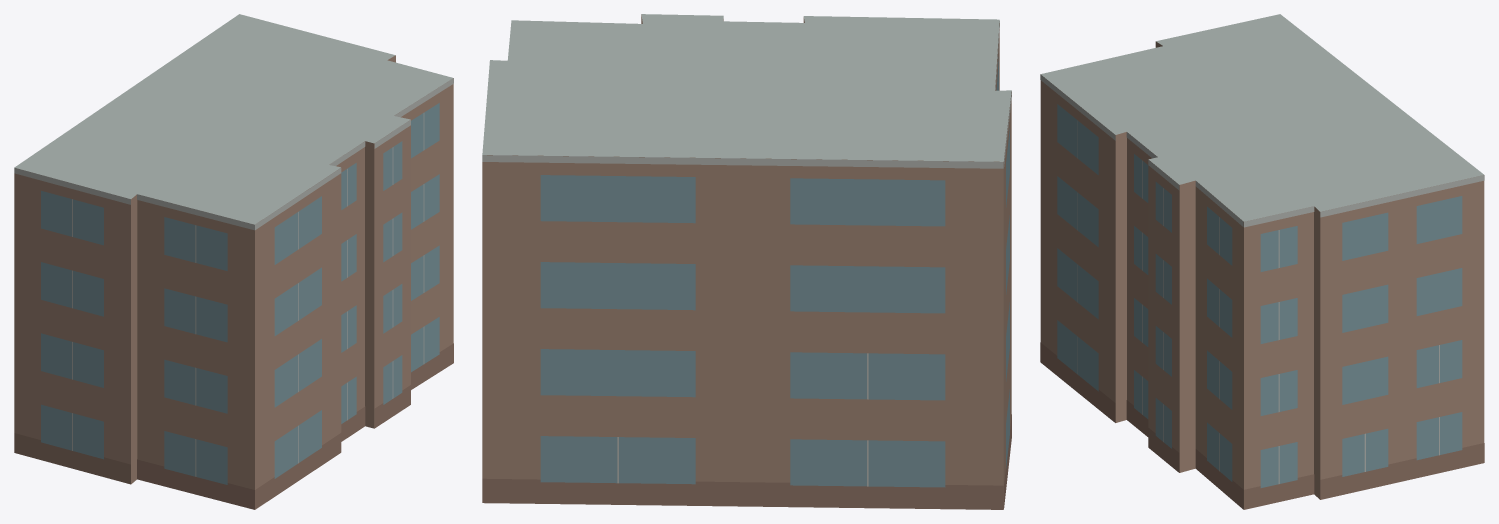
Rendered from survey-upis-32948264.glb.
The picture shows the model from 3 angles, left to right: view 1: azimuth 30°, elevation 25°; view 2: azimuth 150°, elevation 25°; view 3: azimuth 270°, elevation 25°; orthographic projection. The views are drawn at different scales.
Parts seen in each view (by area): view 1: survey-upis-32948264.tmp; view 2: survey-upis-32948264.tmp; view 3: survey-upis-32948264.tmp.
Part boxes in pixels (box(x1,y1,x2,y2)): survey-upis-32948264.tmp: box(14, 14, 453, 509); survey-upis-32948264.tmp: box(482, 14, 1011, 509); survey-upis-32948264.tmp: box(1040, 14, 1484, 509).
Size of the model in its own units: 18.88 by 12.2 by 17.05.
